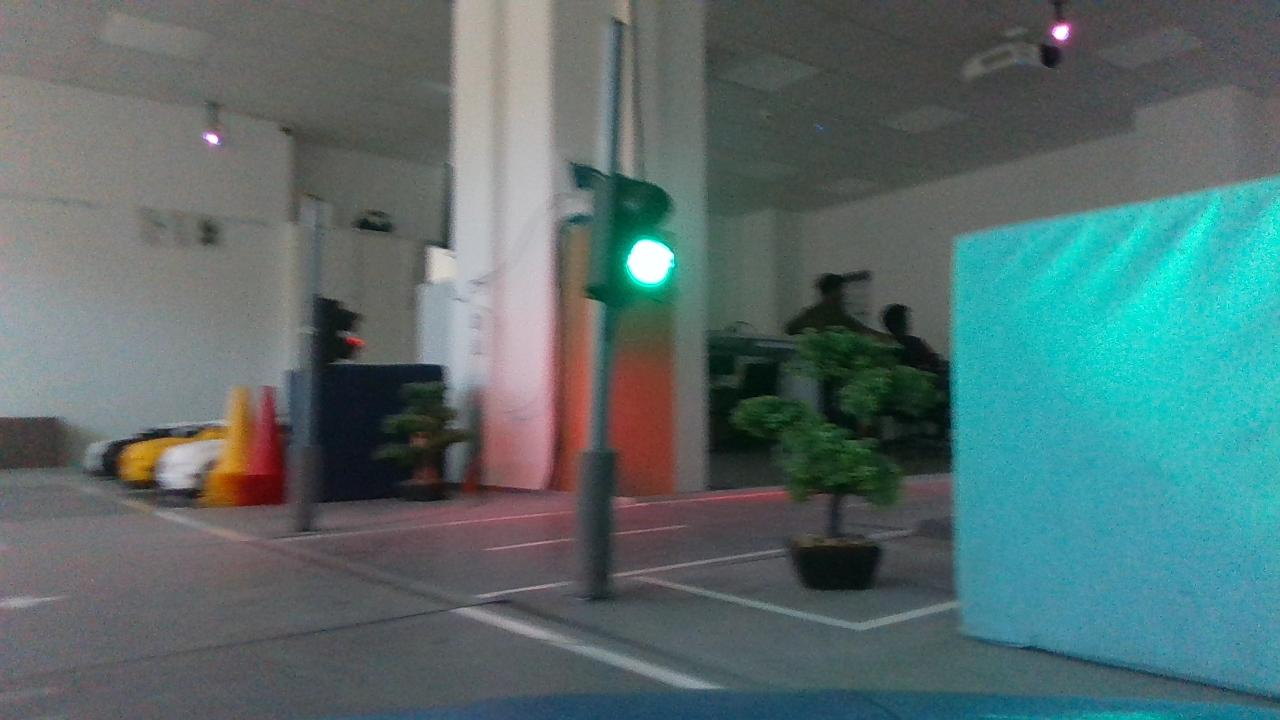traffic_light_green: (588, 154, 695, 312)
